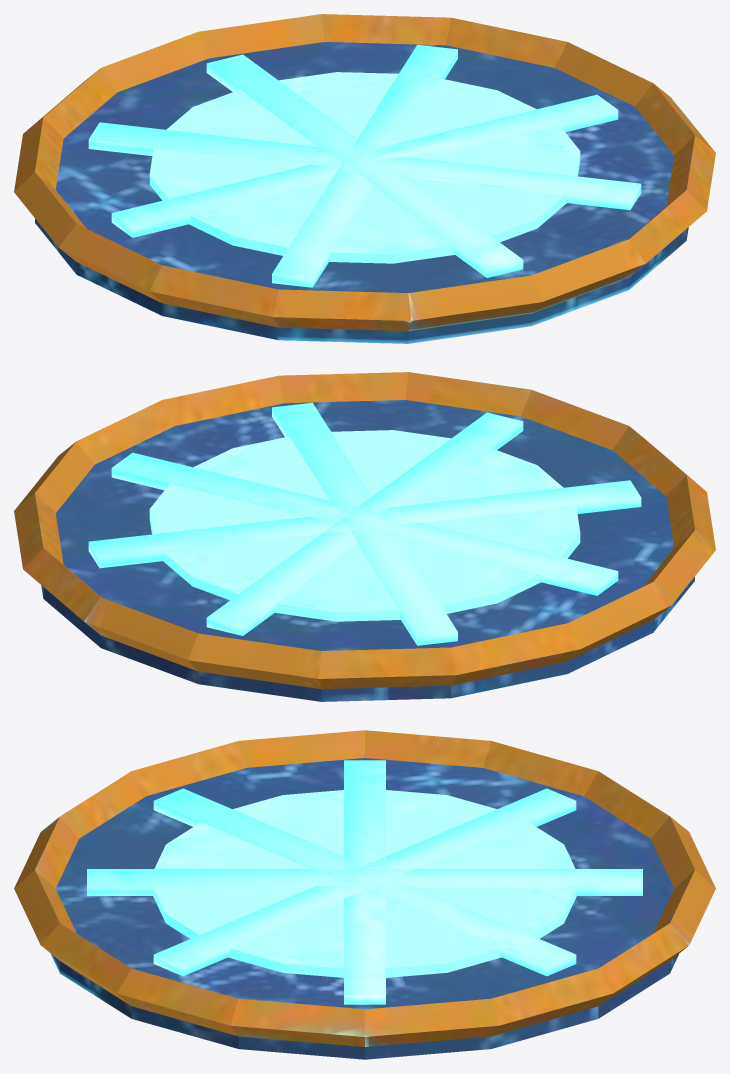
Rendered from pad_frost.glb.
The picture shows the model from 3 angles, top to bottom: view 1: azimuth 30°, elevation 25°; view 2: azimuth 150°, elevation 25°; view 3: azimuth 270°, elevation 25°; orthographic projection.
Parts seen in each view (by area): view 1: pad_frost; view 2: pad_frost; view 3: pad_frost.
Boxes of the visible parts, box(x1,y1,x2,y2) form: pad_frost: box(14, 14, 715, 343); pad_frost: box(14, 372, 715, 701); pad_frost: box(14, 730, 715, 1059).
Size of the model in its own units: 2.02 by 0.16 by 2.02.
1 material, 1 textured.
